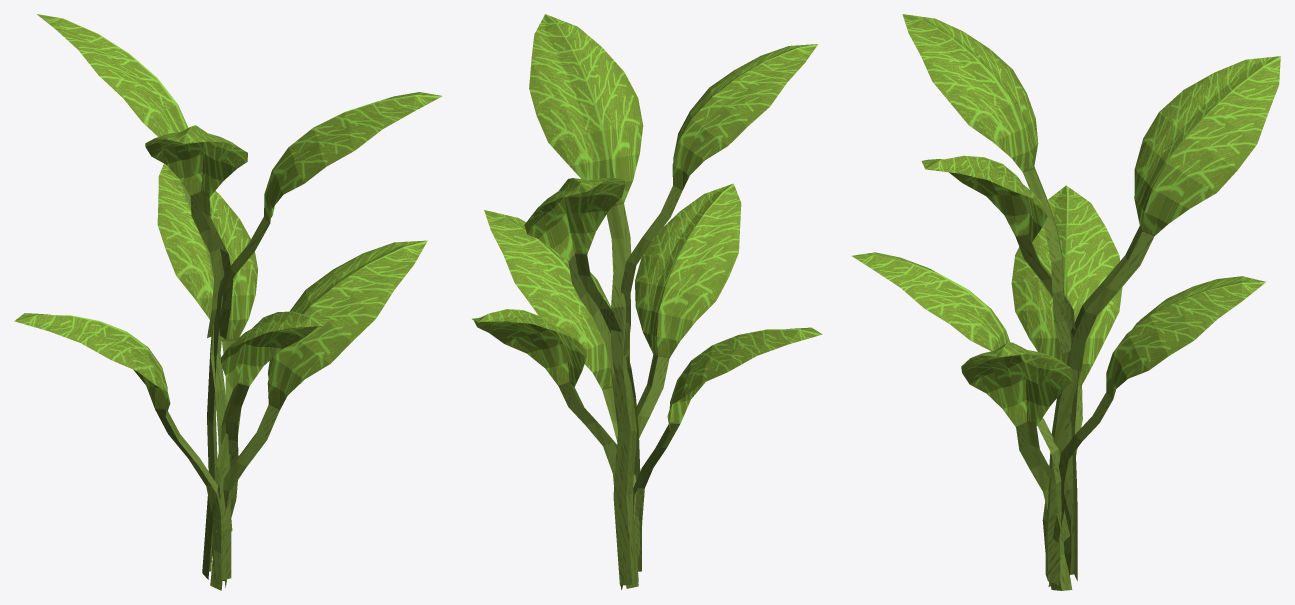
Rendered from SmallGrass.FBX.
The picture shows the model from 3 angles, left to right: view 1: azimuth 30°, elevation 25°; view 2: azimuth 150°, elevation 25°; view 3: azimuth 270°, elevation 25°; orthographic projection. The views are drawn at different scales.
Parts seen in each view (by area): view 1: SmallGrass; view 2: SmallGrass; view 3: SmallGrass.
Boxes of the visible parts, <box> form: SmallGrass: <box>14,14,442,590</box>; SmallGrass: <box>472,14,822,589</box>; SmallGrass: <box>851,14,1280,590</box>.
Bounding box in the file's own units: 2.57 × 2.55 × 3.41.
